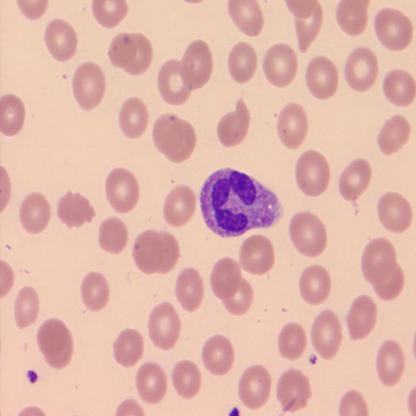Segmented neutrophil: (197, 164, 284, 240)
